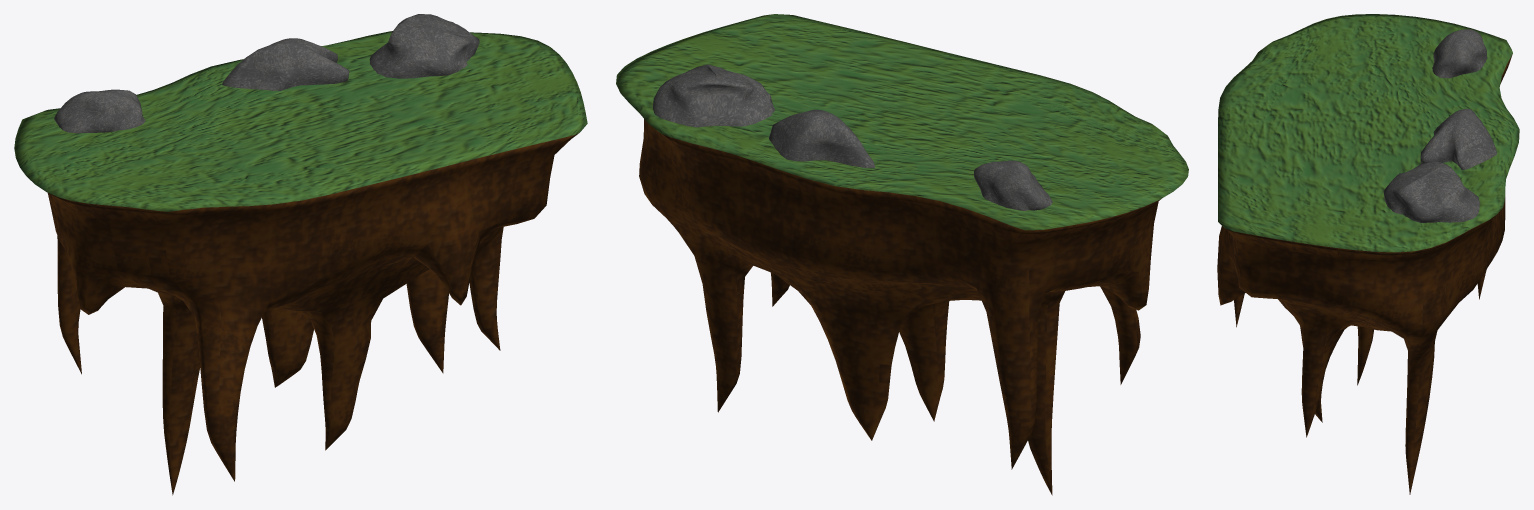
The model's file is ForestPlat3.FBX.
The picture shows the model from 3 angles, left to right: view 1: azimuth 30°, elevation 25°; view 2: azimuth 150°, elevation 25°; view 3: azimuth 270°, elevation 25°; orthographic projection. The views are drawn at different scales.
Visible parts, largest first — view 1: Box001, Sphere010, Sphere009, Sphere011; view 2: Box001, Sphere010, Sphere009, Sphere011; view 3: Box001, Sphere010, Sphere009, Sphere011.
Part boxes in pixels (<box>): Box001: <box>14,31,587,495</box>; Sphere010: <box>369,14,479,78</box>; Sphere009: <box>222,38,349,90</box>; Sphere011: <box>54,89,145,133</box>; Box001: <box>616,14,1188,495</box>; Sphere010: <box>653,64,774,127</box>; Sphere009: <box>769,109,874,168</box>; Sphere011: <box>974,160,1052,210</box>; Box001: <box>1217,14,1519,494</box>; Sphere010: <box>1383,161,1480,222</box>; Sphere009: <box>1420,108,1496,169</box>; Sphere011: <box>1432,29,1487,78</box>.
Bounding box in the file's own units: 102 × 69.04 × 54.17.
3 materials, 3 textured.
